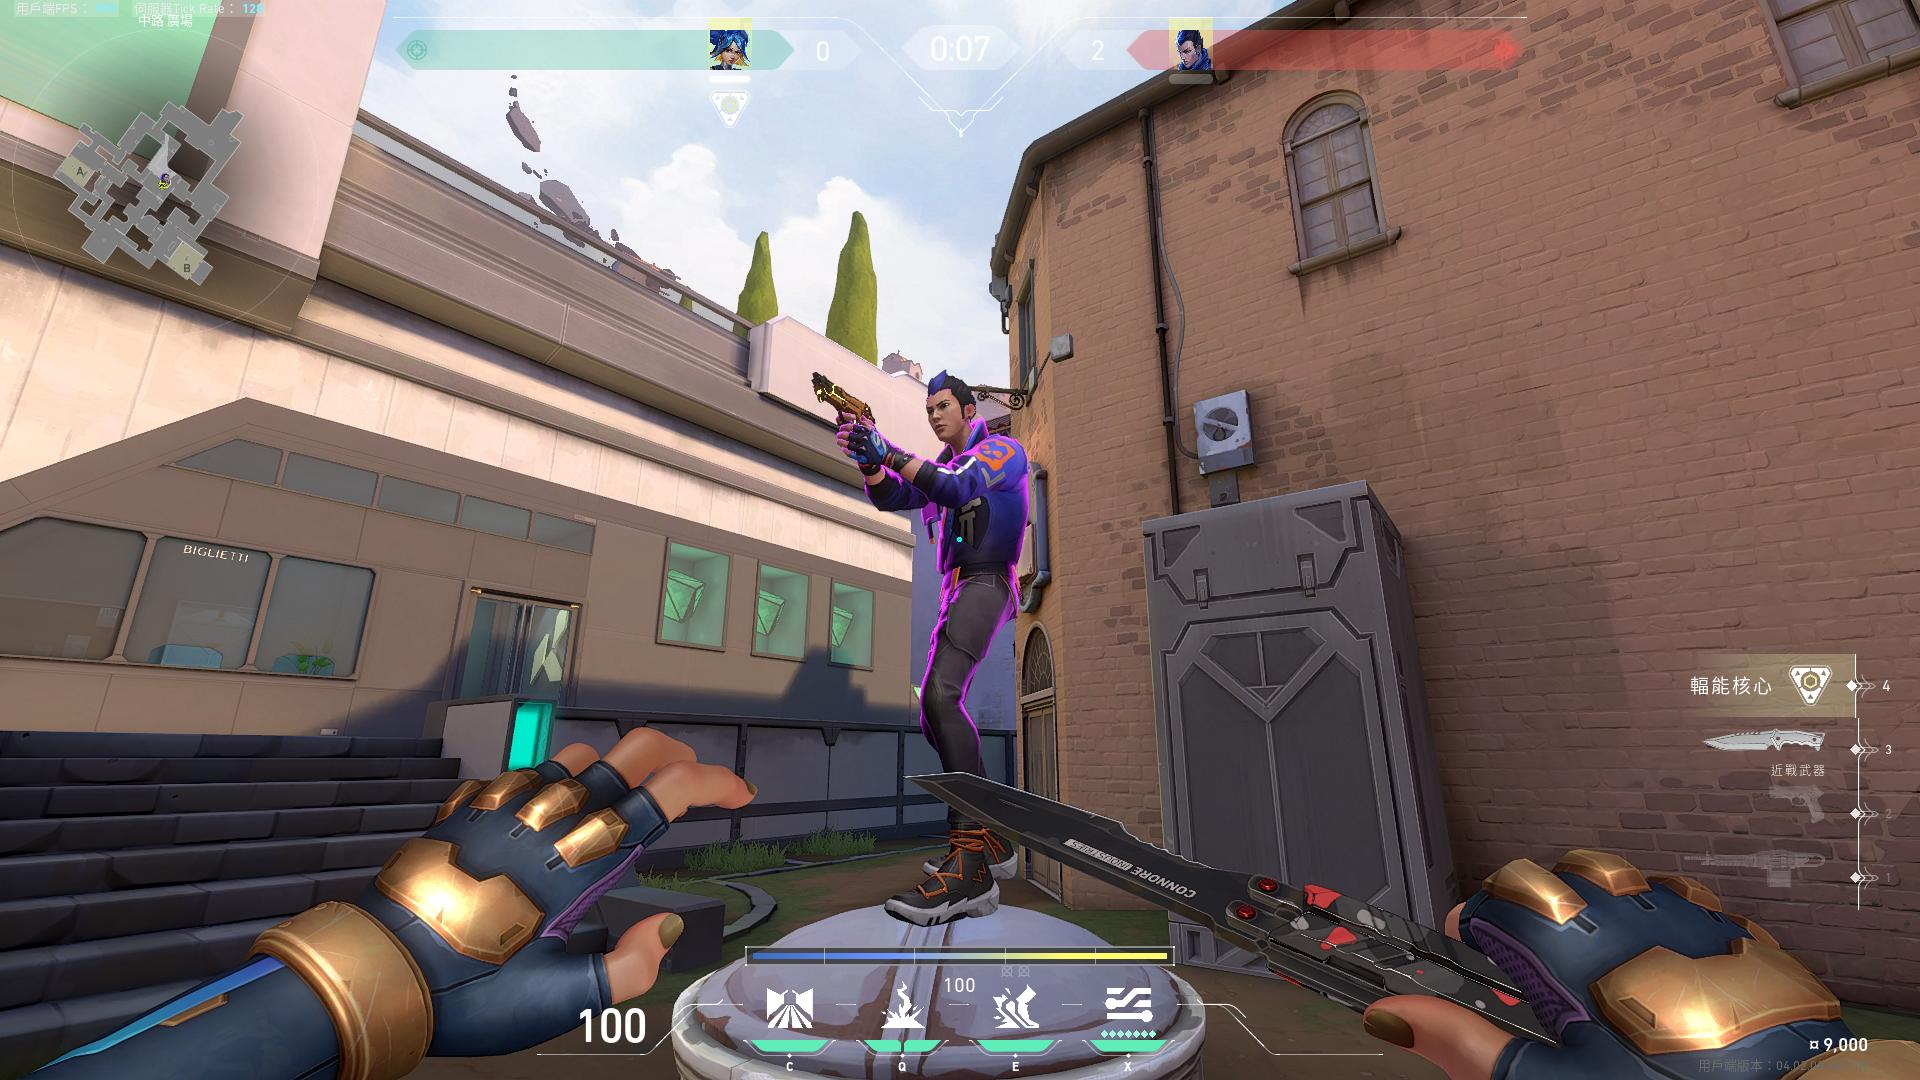enemyBody: (932, 460, 1014, 583)
enemyHead: (927, 386, 982, 448)
